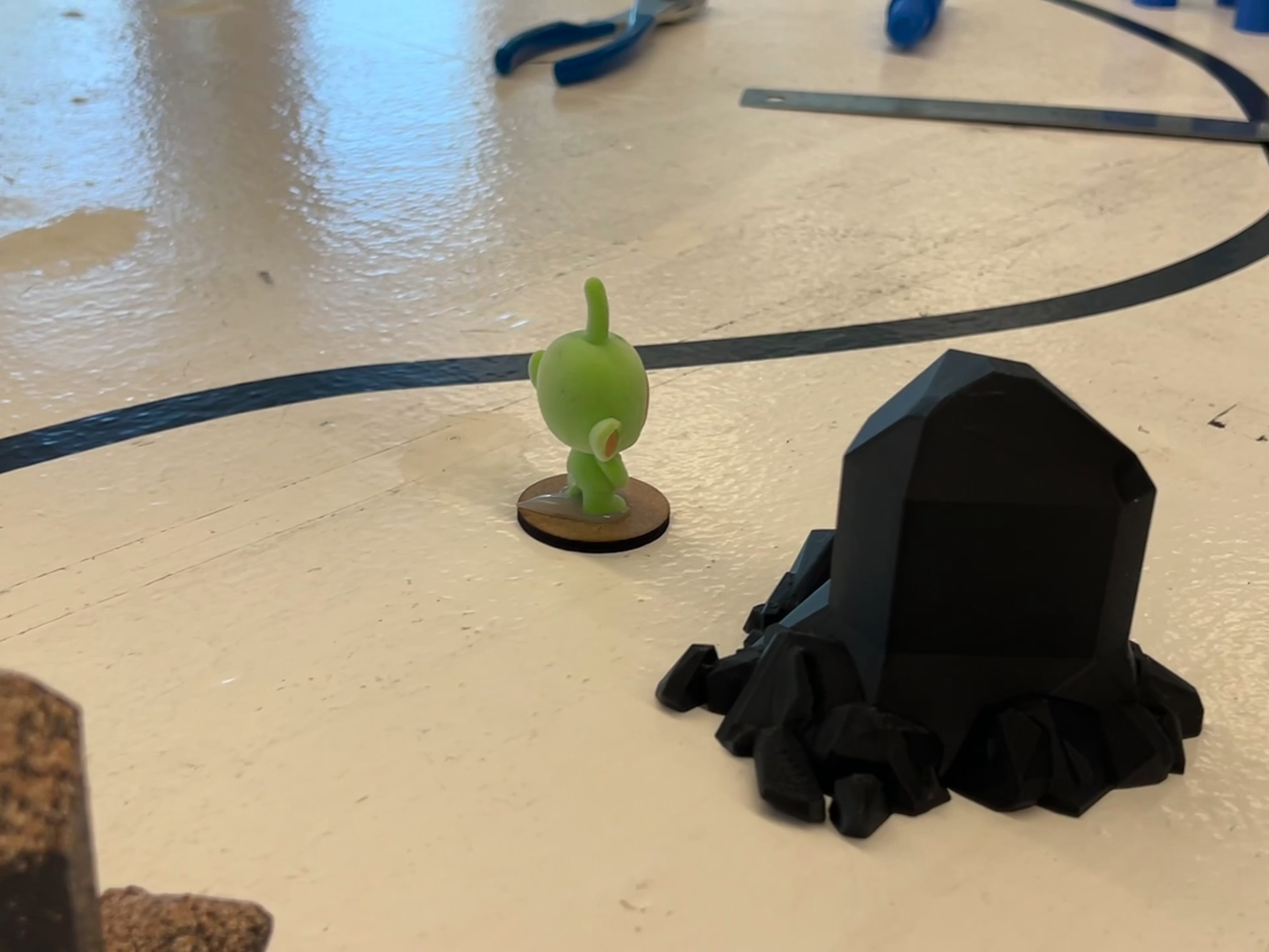teletubby: (528, 278, 650, 516)
